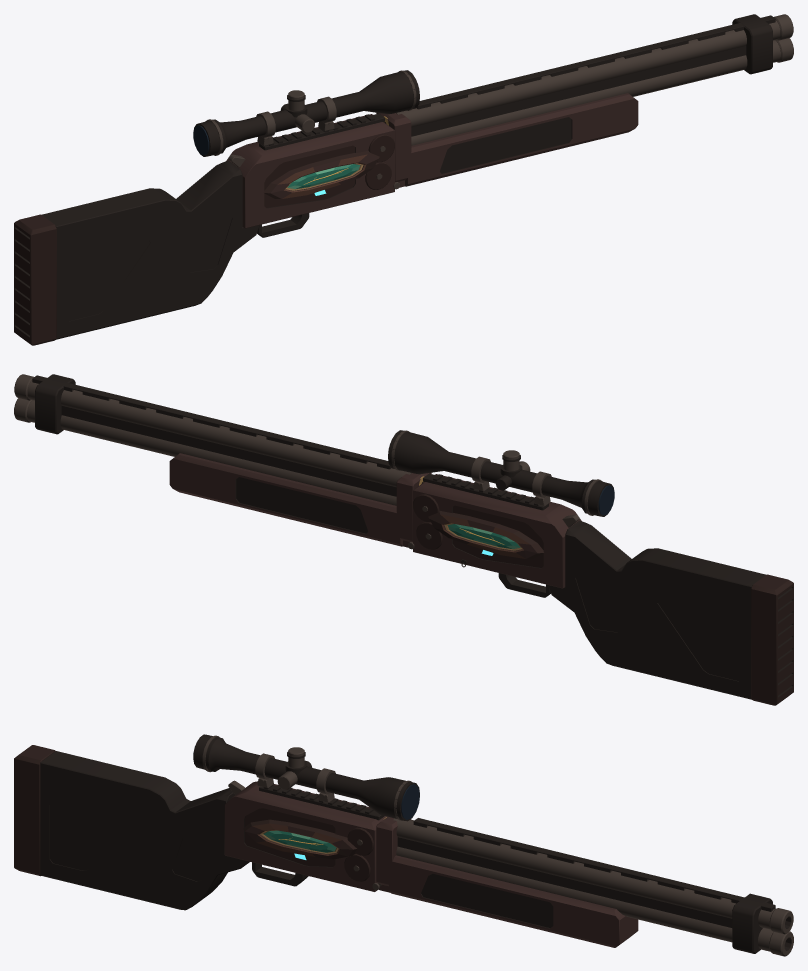
Rendered from Outlaw_Rootglass_v01.fbx.
The picture shows the model from 3 angles, top to bottom: view 1: azimuth 30°, elevation 25°; view 2: azimuth 150°, elevation 25°; view 3: azimuth 330°, elevation 25°; orthographic projection.
Visible parts, largest first — view 1: Outlaw_Stock, Outlaw_Barrels, Outlaw_Receiver, Outlaw_Scope, Rootglass_Right_CarvedShell, Rootglass_Right_FacetedMineral; view 2: Outlaw_Stock, Outlaw_Barrels, Outlaw_Receiver, Outlaw_Scope, Rootglass_Left_CarvedShell, Rootglass_Left_FacetedMineral; view 3: Outlaw_Barrels, Outlaw_Stock, Outlaw_Receiver, Outlaw_Scope, Rootglass_Right_CarvedShell, Rootglass_Right_FacetedMineral, Outlaw_ScopeLens.
Part boxes in pixels (x1,y1,x2,y2): Outlaw_Stock: (14, 160, 259, 345); Outlaw_Barrels: (376, 14, 793, 187); Outlaw_Receiver: (226, 113, 399, 237); Outlaw_Scope: (193, 70, 419, 156); Rootglass_Right_CarvedShell: (264, 150, 379, 198); Rootglass_Right_FacetedMineral: (287, 164, 360, 189); Outlaw_Stock: (548, 520, 793, 705); Outlaw_Barrels: (14, 374, 431, 547); Outlaw_Receiver: (408, 473, 581, 597); Outlaw_Scope: (388, 430, 614, 516); Rootglass_Left_CarvedShell: (428, 510, 543, 558); Rootglass_Left_FacetedMineral: (447, 524, 520, 549); Outlaw_Barrels: (376, 816, 793, 956); Outlaw_Stock: (14, 745, 249, 910); Outlaw_Receiver: (224, 781, 387, 891); Outlaw_Scope: (193, 734, 419, 821); Rootglass_Right_CarvedShell: (243, 819, 356, 859); Rootglass_Right_FacetedMineral: (263, 830, 336, 852); Outlaw_ScopeLens: (193, 746, 419, 819).
Bounding box in the file's own units: 458 × 104 × 27.4.
